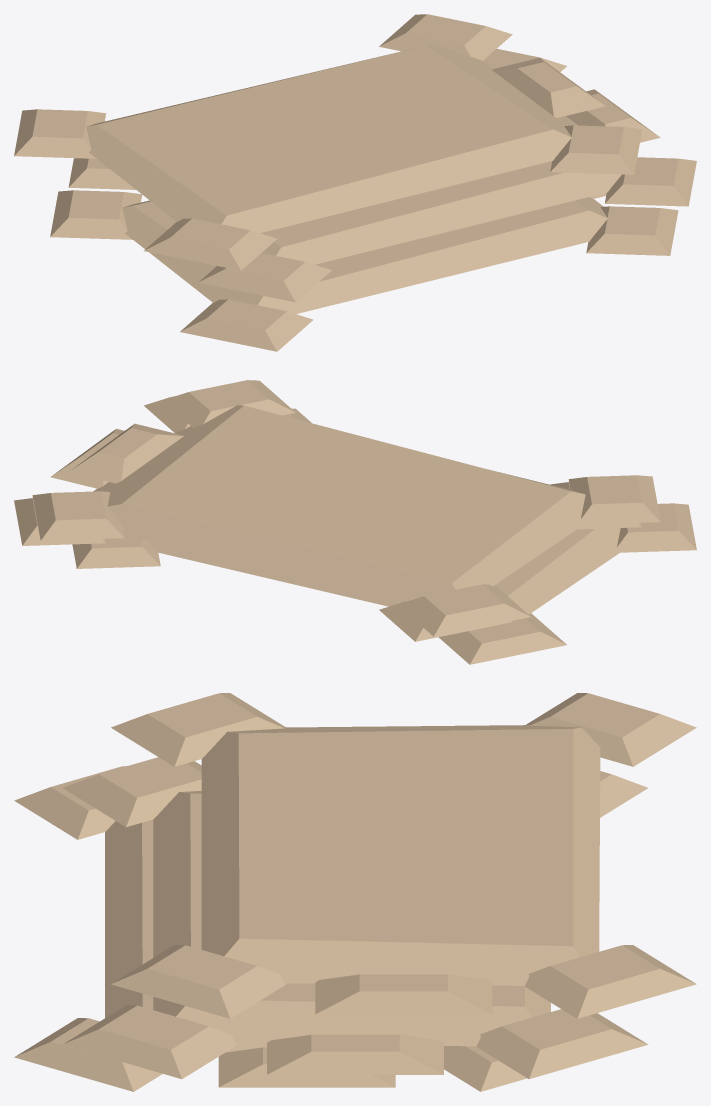
The model's file is item_014_fur_cloak_m.glb.
The picture shows the model from 3 angles, top to bottom: view 1: azimuth 30°, elevation 25°; view 2: azimuth 150°, elevation 25°; view 3: azimuth 270°, elevation 25°; orthographic projection. The views are drawn at different scales.
Visible parts, largest first — view 1: item_014_fur_cloak_m; view 2: item_014_fur_cloak_m; view 3: item_014_fur_cloak_m.
Boxes of the visible parts, bbox=[...] form: item_014_fur_cloak_m: bbox=[14, 14, 696, 351]; item_014_fur_cloak_m: bbox=[14, 380, 696, 664]; item_014_fur_cloak_m: bbox=[14, 693, 696, 1091].
Bounding box in the file's own units: 1.03 × 0.1339 × 0.8476.
